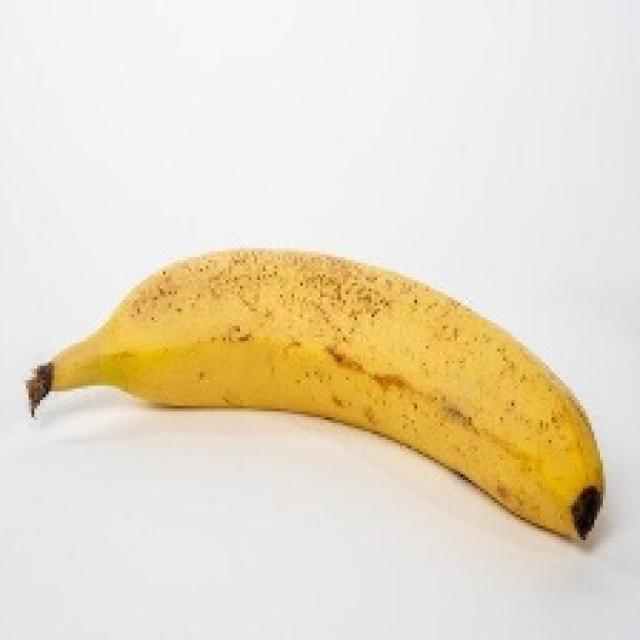Banana: (23, 243, 606, 543)
